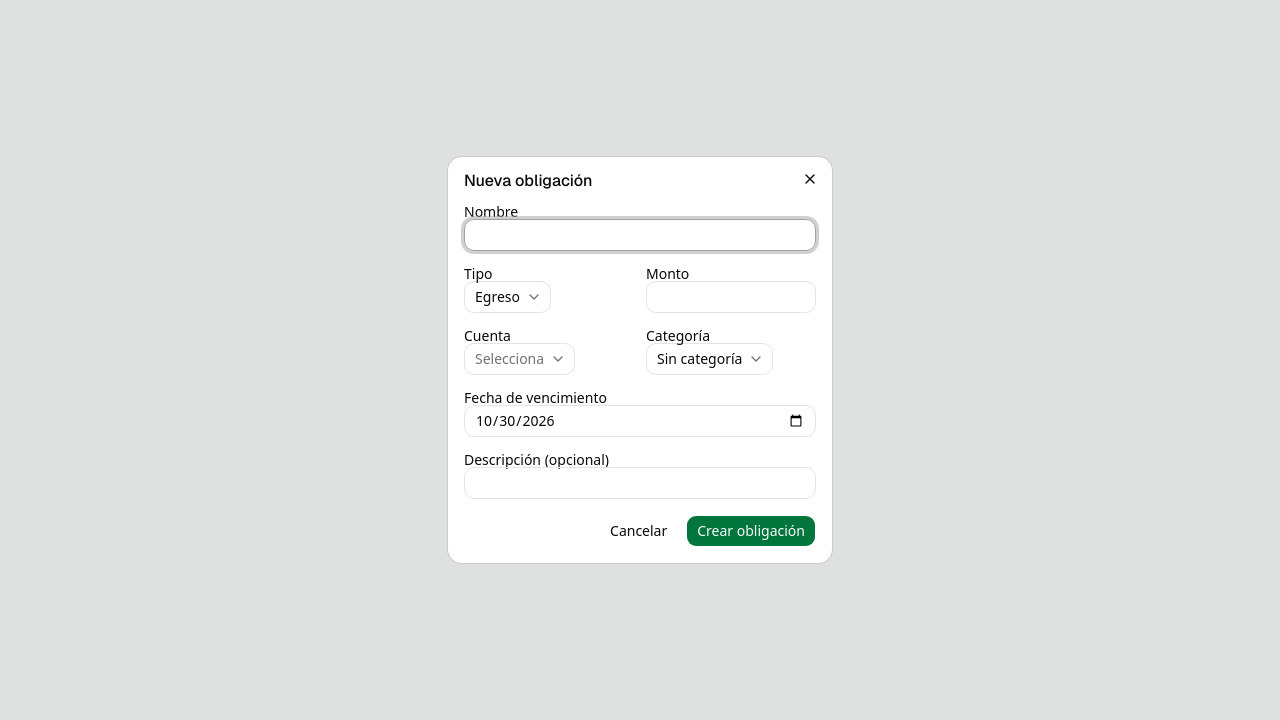
Scenario: ObligationFormModal › valida los campos obligatorios
Click the button "Crear obligación" at (751, 531), box [686, 515, 816, 547]
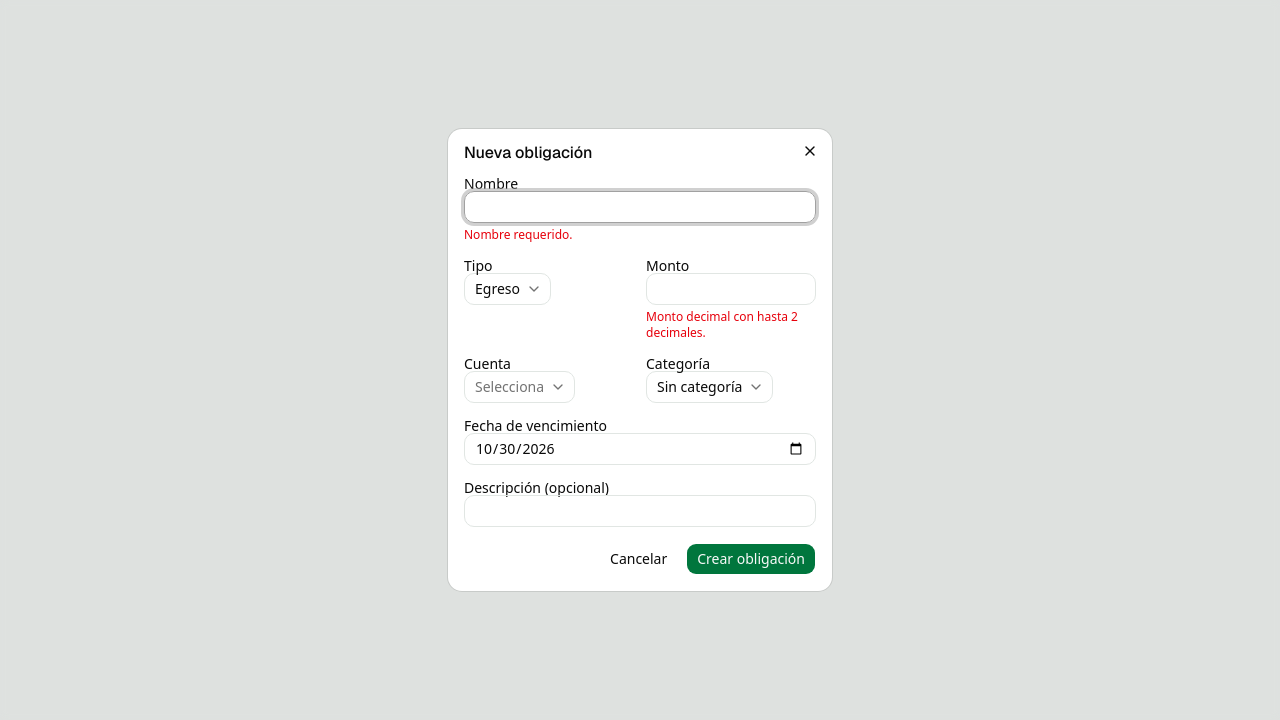
Check: the text "Nombre requerido." is shown, box [464, 226, 572, 243]
